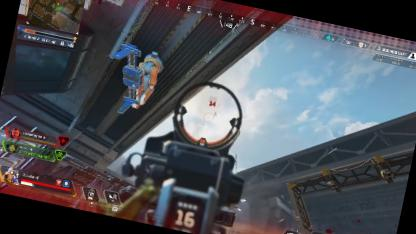Target: (212, 110, 218, 117)
